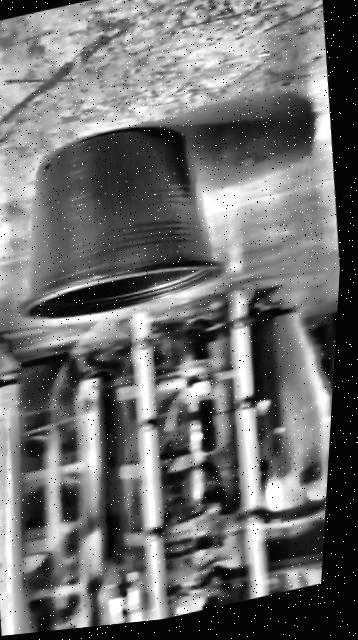pot: (0, 106, 235, 335)
